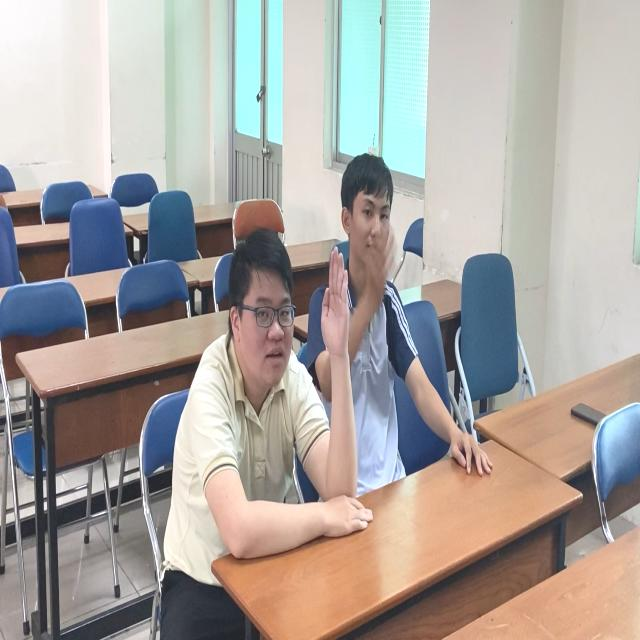raise_hand: (175, 230, 360, 558)
